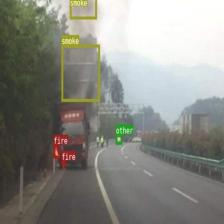fire: (53, 144, 60, 157), (61, 160, 65, 166)
smoke: (61, 44, 100, 101), (70, 0, 96, 19)
